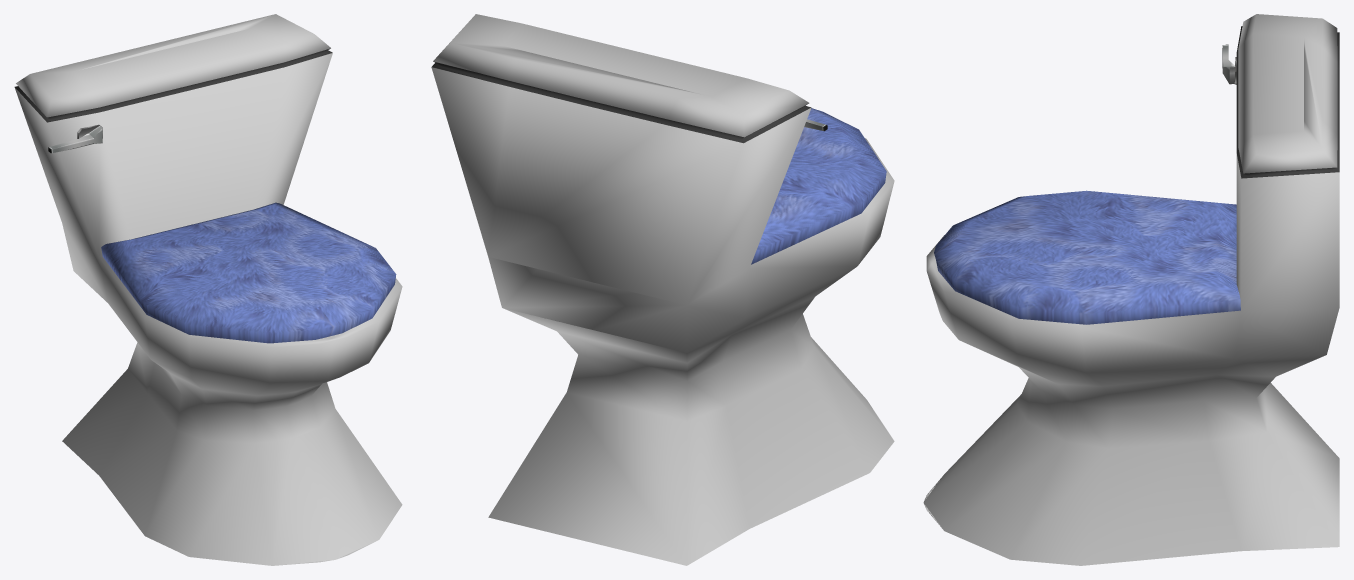
File: Potty_C.FBX
The picture shows the model from 3 angles, left to right: view 1: azimuth 30°, elevation 25°; view 2: azimuth 150°, elevation 25°; view 3: azimuth 270°, elevation 25°; orthographic projection. The views are drawn at different scales.
Parts seen in each view (by area): view 1: Potty; view 2: Potty; view 3: Potty.
Part boxes in pixels (x1,y1,x2,y2): Potty: (14, 14, 402, 565); Potty: (431, 14, 894, 565); Potty: (923, 14, 1339, 565).
Size of the model in its own units: 140 by 176 by 159.
